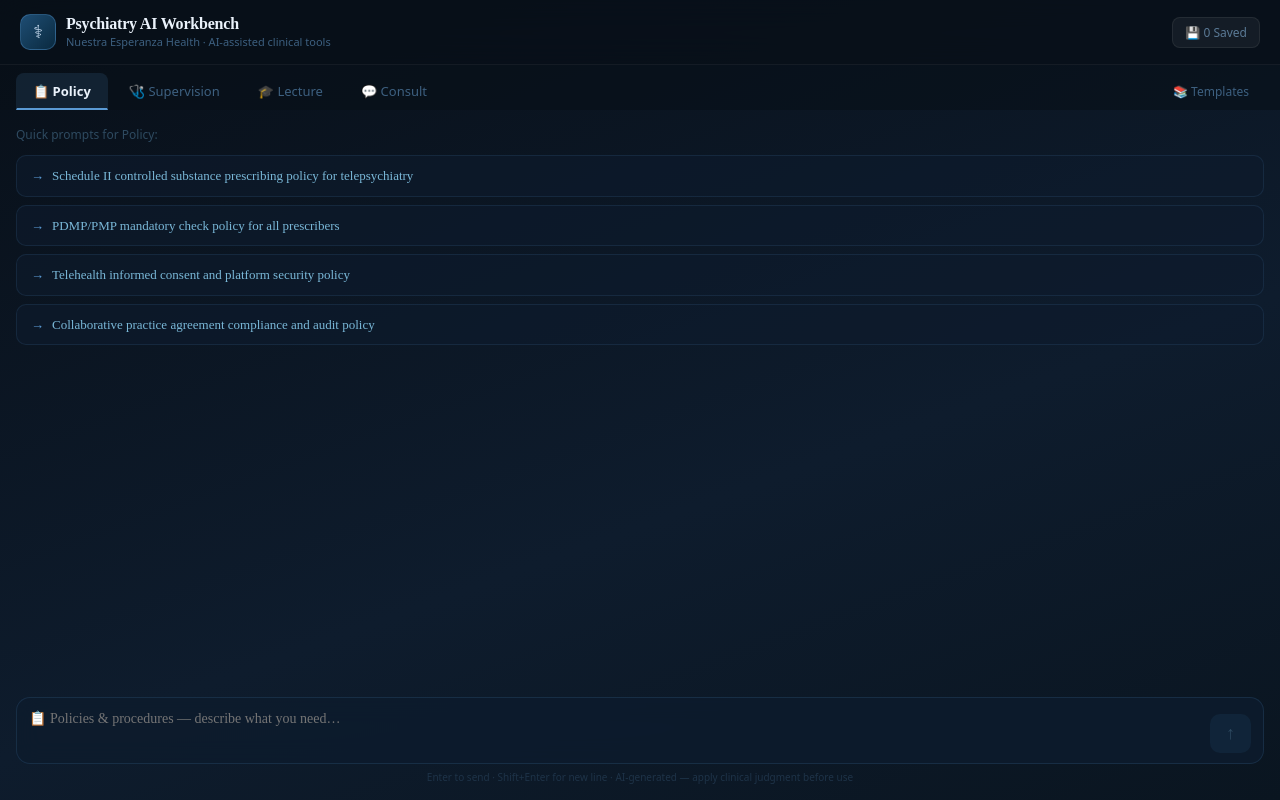
it: PsychiatryWorkbench › renders citations returned by backend
Type "Need citation" into the text box with placeholder "📋 Policies & procedures — describe what you need…". click: coordinates (616, 731)
box: [29,708,1202,753]
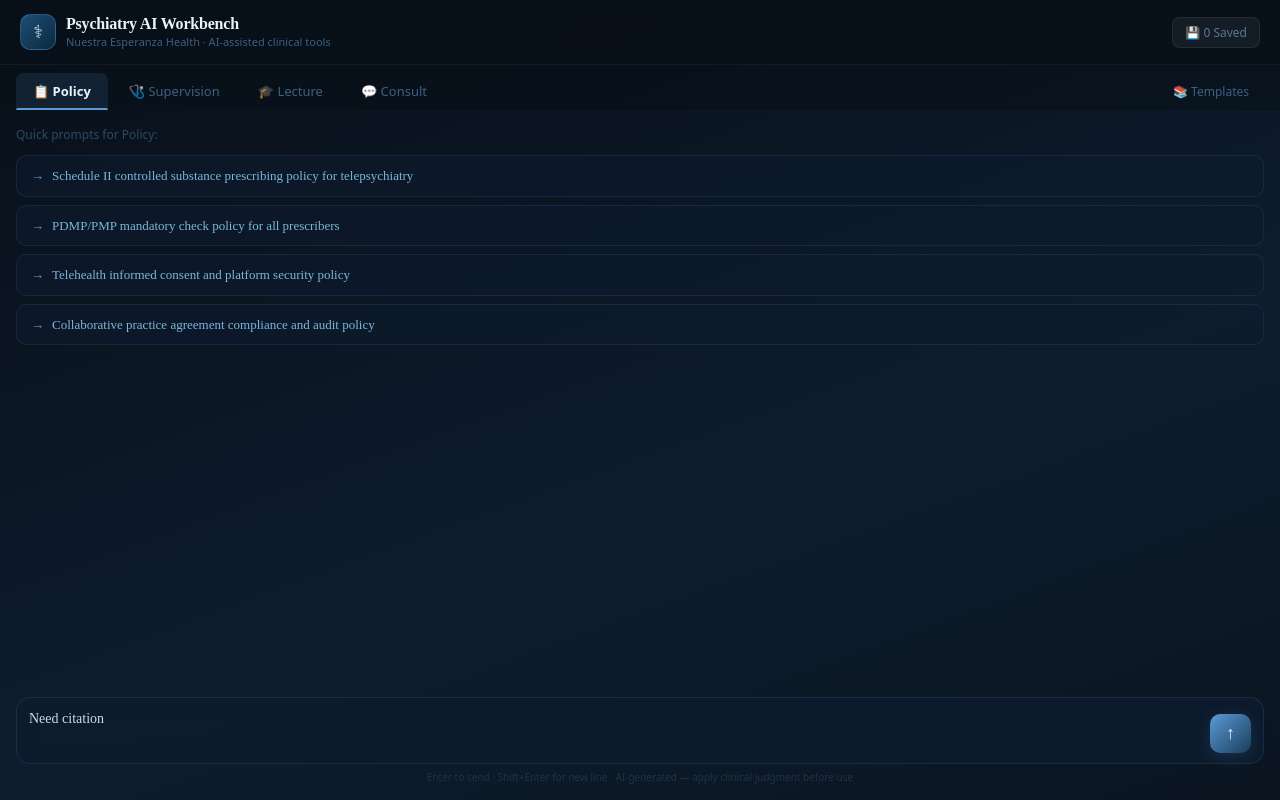
Click the button "↑". click: coordinates (1230, 734)
box: [1210,714,1251,753]
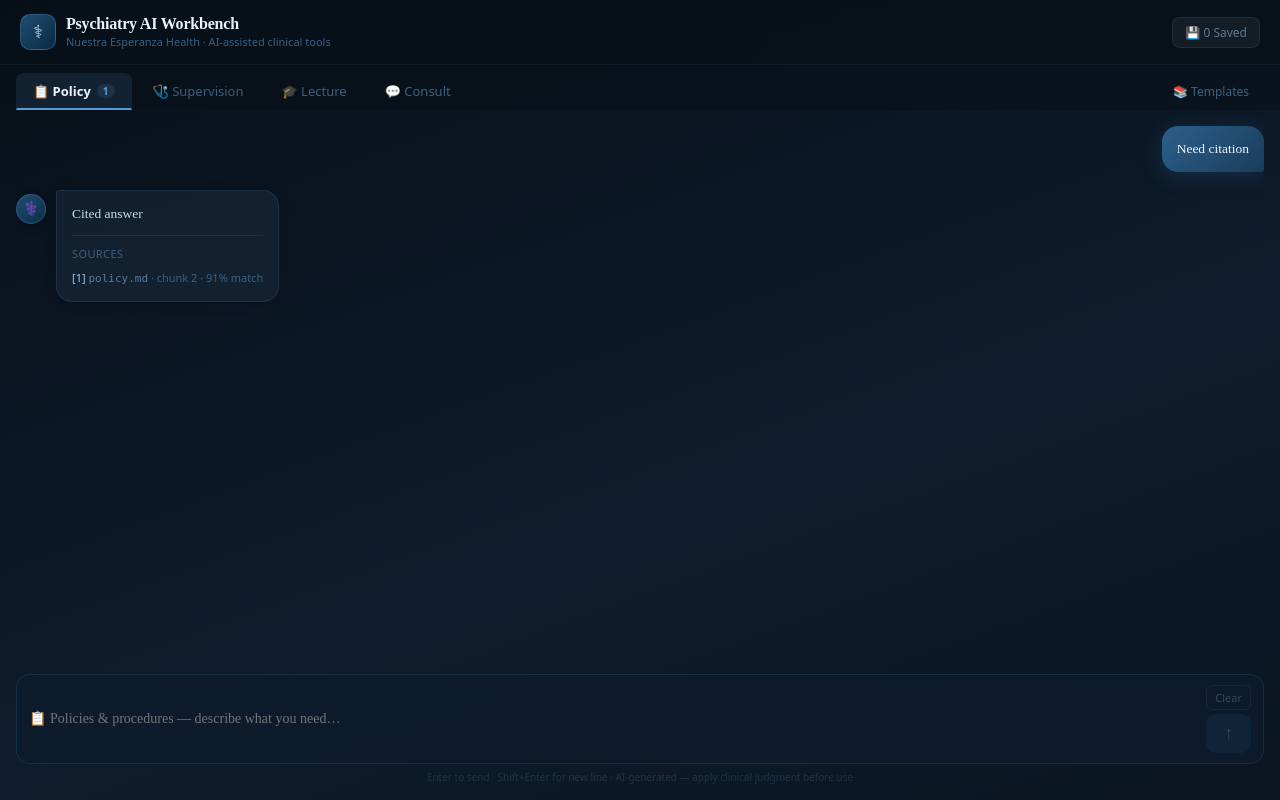
Now the text "Sources" is shown, box [72,246,123,261]
Now the text "policy.md" is shown, box [88,272,148,284]
Now the text "· chunk 2 · 91% match" is shown, box [148,270,263,284]
